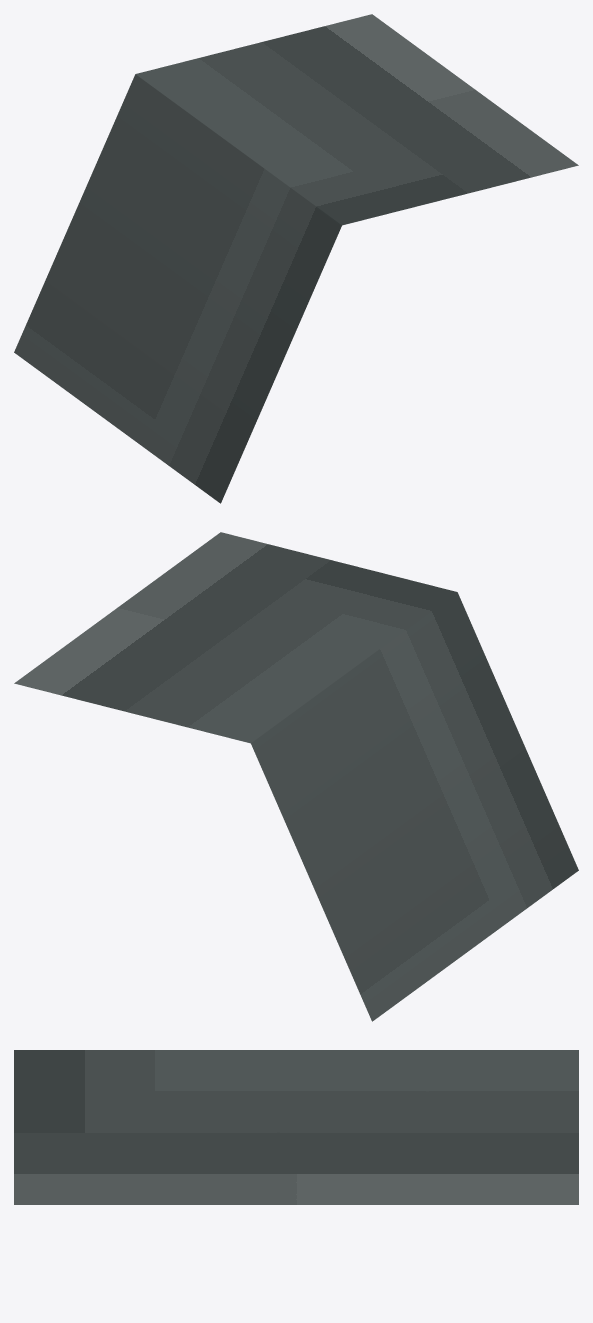
3 renders of one model, top to bottom at view 1: azimuth 30°, elevation 25°; view 2: azimuth 150°, elevation 25°; view 3: azimuth 270°, elevation 25°, orthographic. The views are drawn at different scales.
Size of the model in its own units: 0.5 by 0.3348 by 0.5.
1 material, 1 textured.
